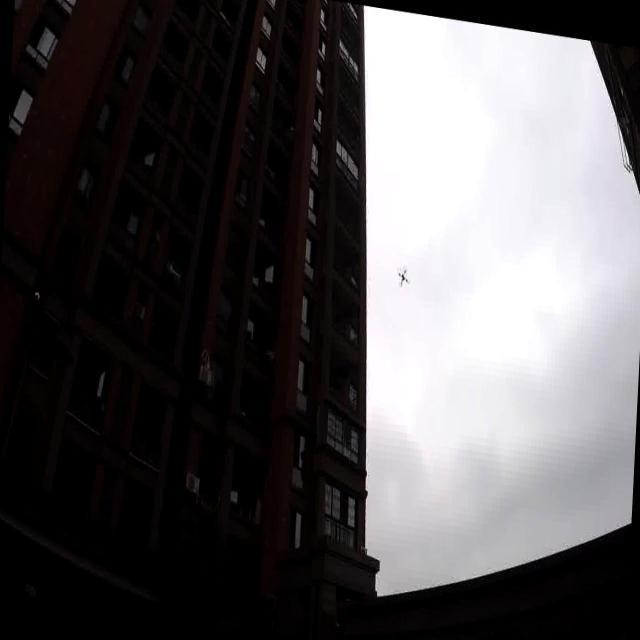drone: (396, 264, 410, 292)
